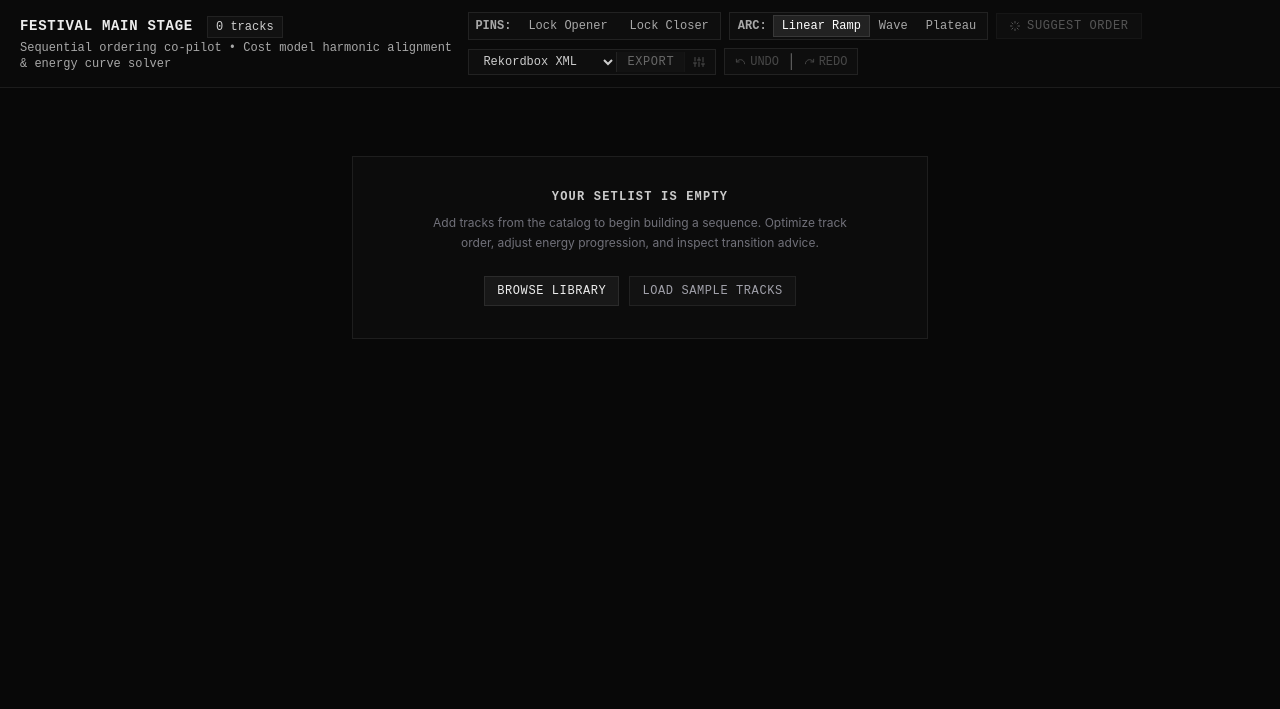
Test case: SetlistView Component Integration Flow › renders the empty state and loads sample tracks into the setlist
This screenshot has width=1280, height=709.
Expected: the heading "Your Setlist is Empty" is shown, [552,189,728,205]
Click the button "Load Sample Tracks".
click(713, 291)  # box [629,276,796,306]
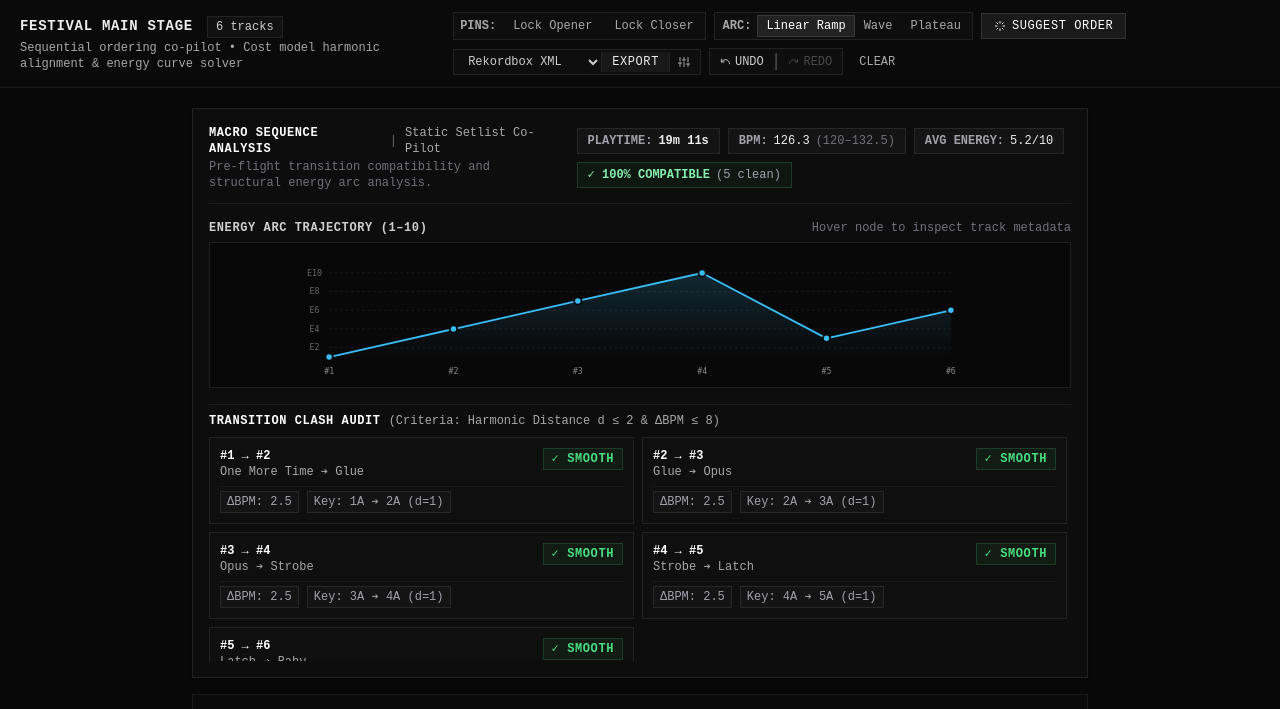
Expected: the heading "Your Setlist is Empty" is gone
